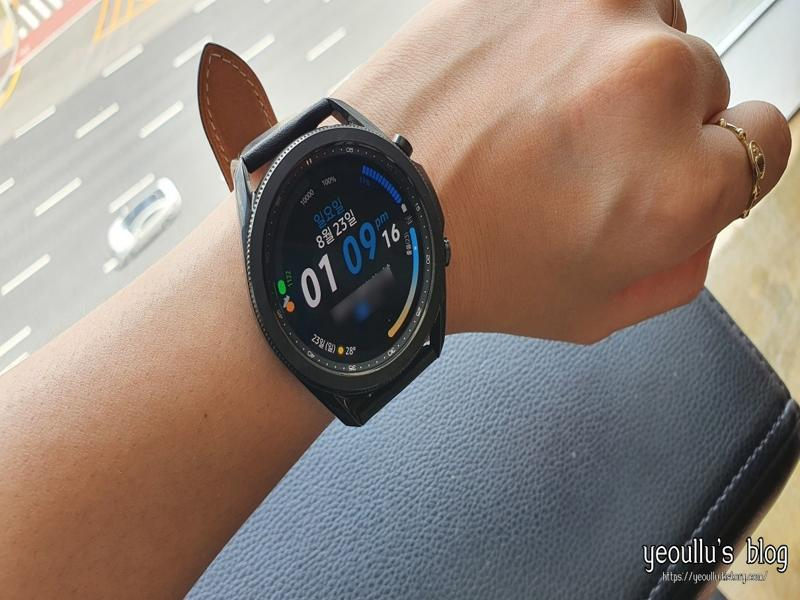watch: (189, 58, 453, 427)
